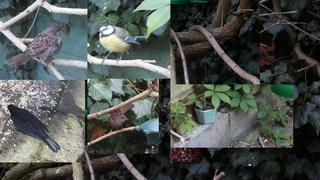blackbird: (7, 104, 61, 153)
blue tit: (96, 24, 146, 65)
dunnock: (5, 24, 63, 68), (108, 103, 135, 136)
